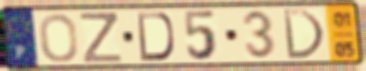3: (241, 8, 278, 61)
5: (183, 8, 223, 63)
D: (280, 8, 327, 61), (135, 11, 177, 63)
O: (37, 12, 80, 64)
Z: (78, 11, 125, 65)
